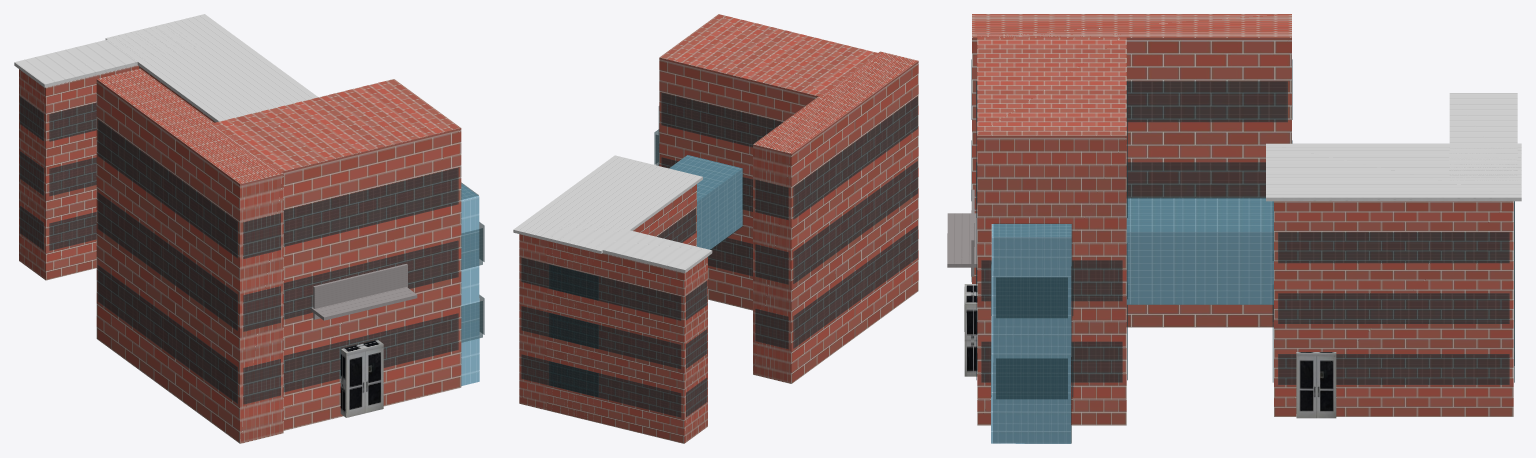
The model's file is Martin_Lilly_v16.glb.
3 views of the same model, side by side, from view 1: azimuth 30°, elevation 25°; view 2: azimuth 150°, elevation 25°; view 3: azimuth 270°, elevation 25° (orthographic). The views are drawn at different scales.
Visible parts, largest first — view 1: MartinBackDepth, MartinMid, LillyBackExtension, LillyRoof, MartinMid_front_windows_row3, MartinMid_front_windows_row1, MartinBackDepth_left_windows_row2, MartinBackDepth_left_windows_row3, MartinBackDepth_left_windows_row1, LillyRoofExt, MartinMid_front_windows_row2, Skybridge (+14 smaller); view 2: MartinBackDepth, LillyBackExtension, MartinMid, LillyFront, LillyRoof, MartinBackDepth_left_windows_row1, MartinBackDepth_left_windows_row2, MartinBackDepth_left_windows_row3, LillyRoofExt, SkybridgeWindows, Skybridge, MartinMid_back_windows_row3 (+15 smaller); view 3: LillyFront, MartinMid, MartinBackDepth, Skybridge (×2), SkybridgeWindows (×2), LillyRoof, LillyFront_right_windows_row3, LillyFront_right_windows_row2, MartinBackDepth_right_windows_row3, LillyFront_right_windows_row1, LillyRoofExt, MartinBackDepth_right_windows_row2 (+7 smaller).
Part boxes in pixels (box(x1,y1,x2,y2)): MartinBackDepth: box(96, 68, 283, 443); MartinMid: box(208, 79, 461, 430); LillyBackExtension: box(19, 65, 138, 280); LillyRoof: box(105, 14, 317, 122); MartinMid_front_windows_row3: box(283, 168, 458, 246); MartinMid_front_windows_row1: box(283, 313, 458, 392); MartinBackDepth_left_windows_row2: box(97, 192, 237, 330); MartinBackDepth_left_windows_row3: box(97, 120, 237, 258); MartinBackDepth_left_windows_row1: box(97, 265, 237, 403); LillyRoofExt: box(14, 23, 205, 87); MartinMid_front_windows_row2: box(283, 240, 458, 319); Skybridge: box(461, 183, 479, 385); MartinBackDepth: box(753, 51, 918, 383); LillyBackExtension: box(546, 241, 707, 443); MartinMid: box(659, 14, 881, 310); LillyFront: box(519, 184, 696, 423); LillyRoof: box(513, 155, 702, 253); MartinBackDepth_left_windows_row1: box(793, 225, 917, 348); MartinBackDepth_left_windows_row2: box(793, 161, 917, 283); MartinBackDepth_left_windows_row3: box(793, 96, 917, 219); LillyRoofExt: box(543, 218, 712, 272); SkybridgeWindows: box(669, 155, 742, 249); Skybridge: box(669, 155, 742, 249); MartinMid_back_windows_row3: box(661, 93, 782, 147); LillyFront: box(1274, 201, 1513, 416); MartinMid: box(977, 34, 1126, 425); MartinBackDepth: box(972, 14, 1291, 327); Skybridge (×2): box(991, 198, 1273, 443); SkybridgeWindows (×2): box(993, 197, 1273, 443); LillyRoof: box(1266, 143, 1521, 201); LillyFront_right_windows_row3: box(1278, 232, 1509, 263); LillyFront_right_windows_row2: box(1278, 293, 1509, 323); MartinBackDepth_right_windows_row3: box(976, 81, 1287, 122); LillyFront_right_windows_row1: box(1278, 354, 1509, 384); LillyRoofExt: box(1449, 93, 1517, 180); MartinBackDepth_right_windows_row2: box(976, 162, 1265, 202).
Size of what is drawn, in the model's own units: 82.58 by 81.43 by 144.
Materials: 8 (8 with a texture image).
